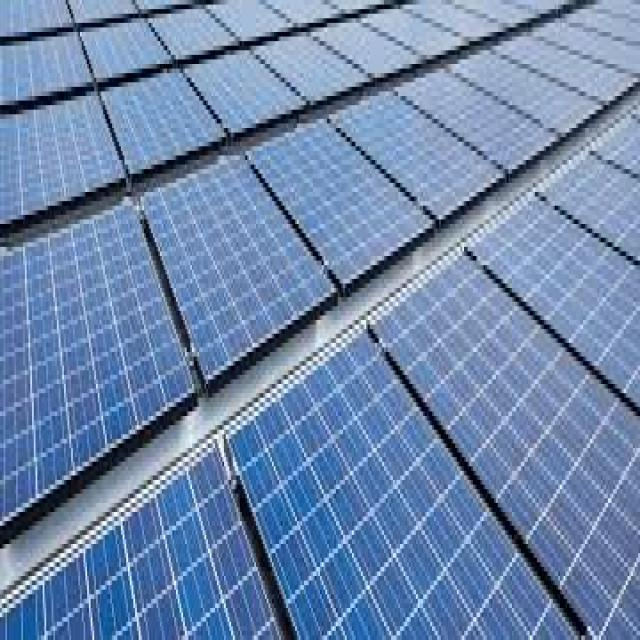clean-solar-panel: (0, 3, 640, 635)
